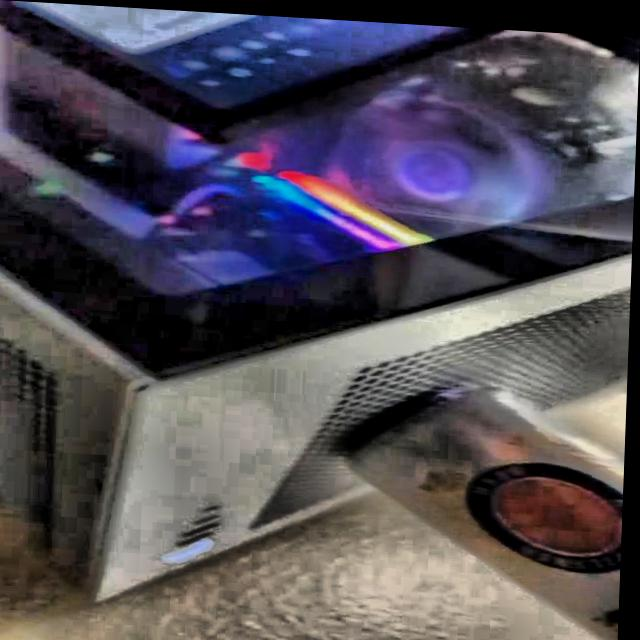can: (333, 372, 630, 640)
